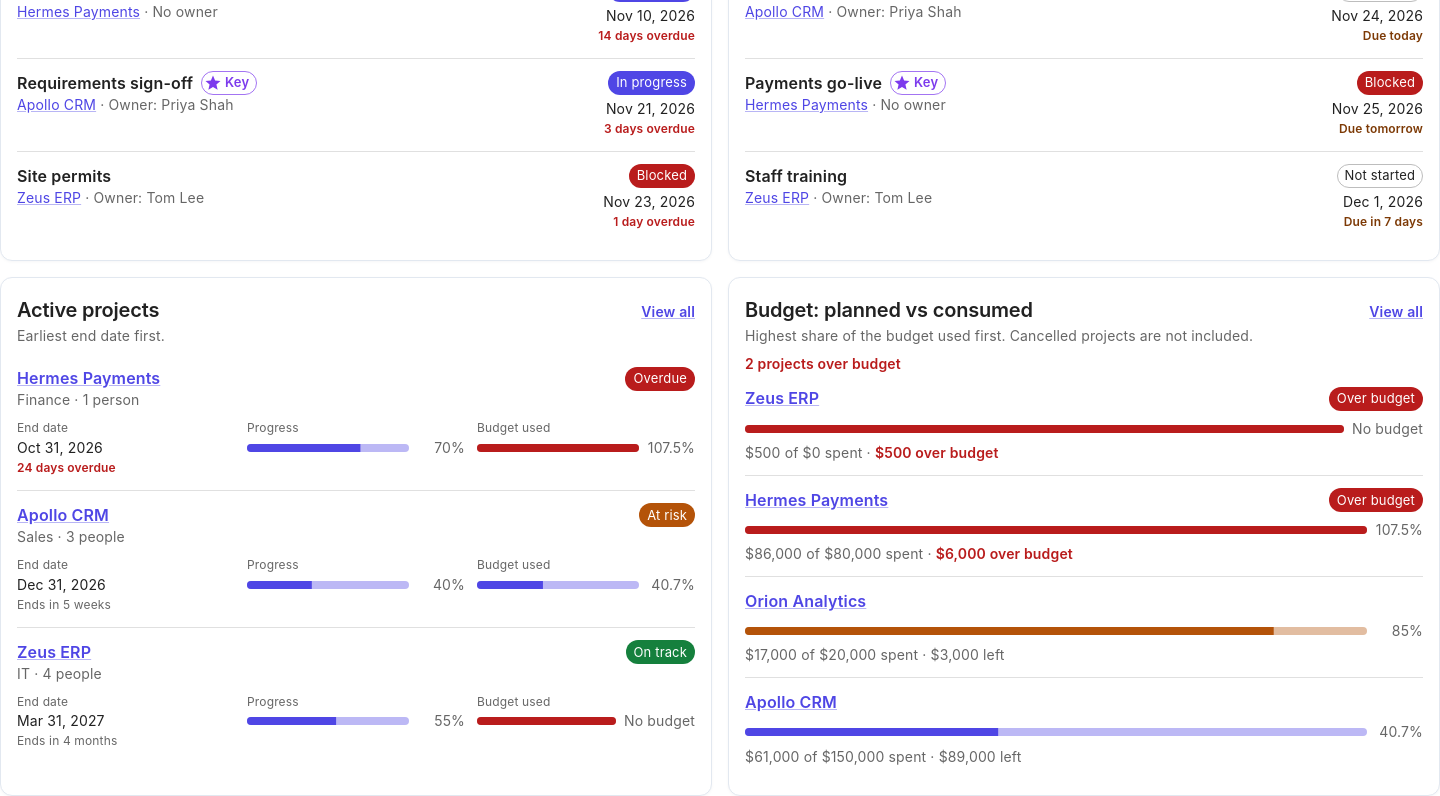
DashboardPage › shows each active project with its health, progress, end date and budget use
(page scrolled)
Expected: the 3rd link "Hermes Payments" is shown, [17,368,160,388]
Expected: the element showing "Oct 31, 2026 24 days overdue" is shown, [17,438,116,478]
Hover over the text "At risk": {"x": 667, "y": 515} [647,507,687,523]
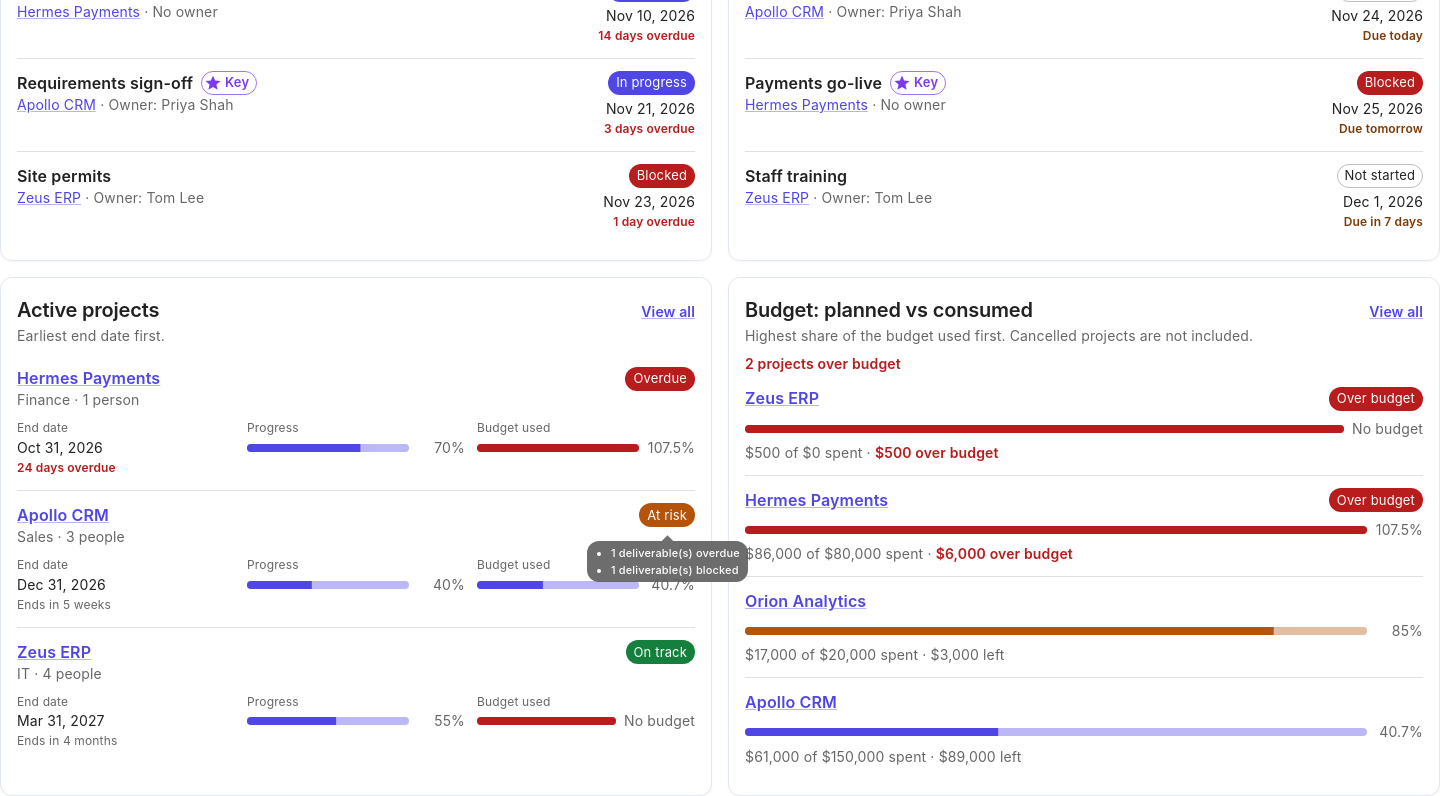
Expected: the tooltip shows "1 deliverable(s) blocked", [611,562,739,576]
